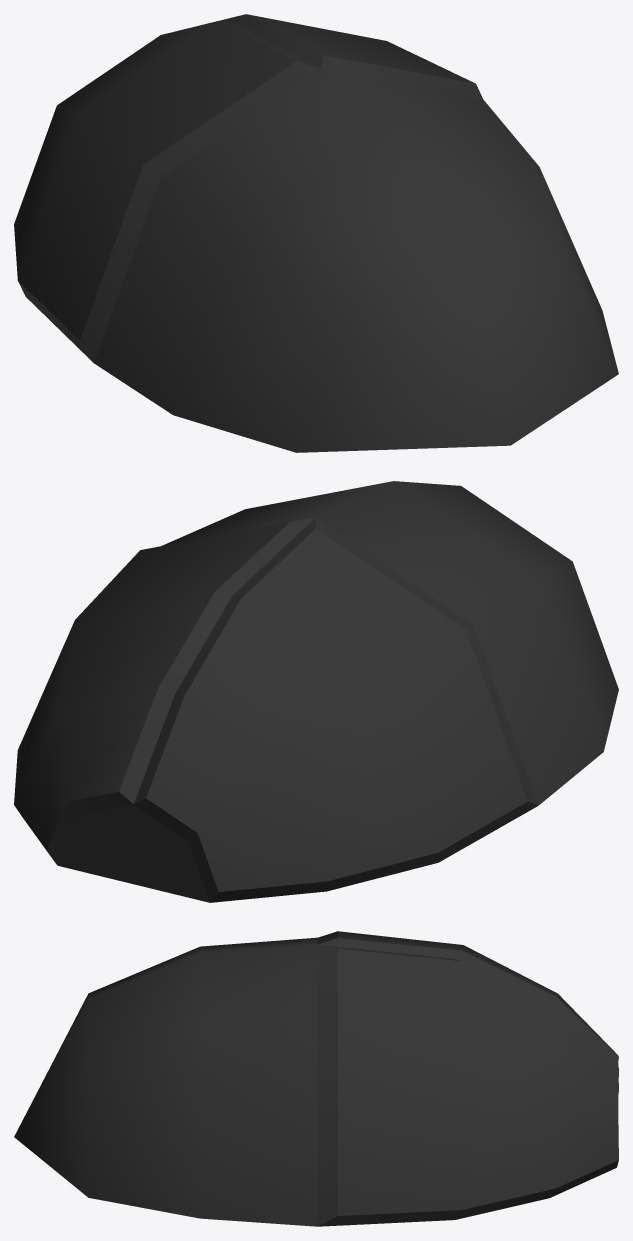
Rendered from Prop_Mouse.FBX.
3 renders of one model, top to bottom at view 1: azimuth 30°, elevation 25°; view 2: azimuth 150°, elevation 25°; view 3: azimuth 270°, elevation 25°, orthographic. The views are drawn at different scales.
Parts seen in each view (by area): view 1: Mouse; view 2: Mouse; view 3: Mouse.
Part boxes in pixels (x1,y1,x2,y2): Mouse: [14, 14, 618, 452]; Mouse: [14, 481, 618, 902]; Mouse: [14, 931, 618, 1226].
Size of the model in its own units: 4.97 by 2.48 by 7.03.
Materials: 1 (1 with a texture image).
